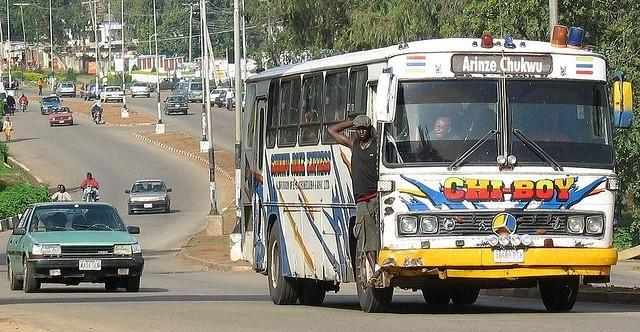bus: (240, 28, 633, 313)
car: (8, 203, 144, 294), (124, 180, 173, 215), (48, 104, 74, 128), (164, 96, 188, 116), (40, 95, 63, 115), (100, 85, 124, 103), (183, 82, 202, 103), (54, 81, 76, 98), (130, 82, 152, 98), (210, 88, 227, 108), (2, 76, 20, 90), (84, 84, 96, 101), (170, 82, 183, 95)
motorcycle: (82, 184, 99, 202), (94, 108, 102, 125), (51, 196, 72, 202), (20, 102, 28, 112)
